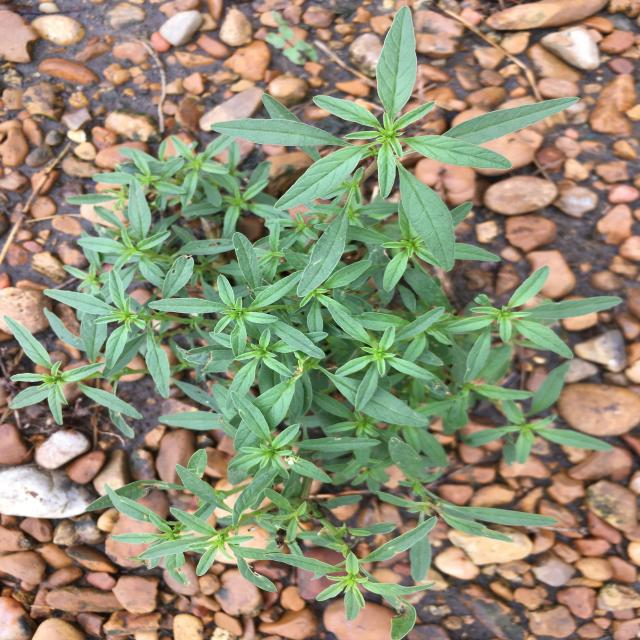Waterhemp: (4, 6, 624, 640)
